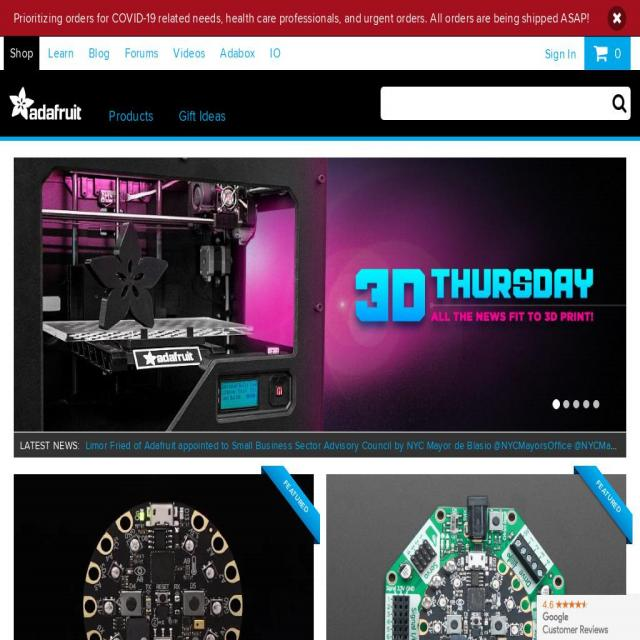login-option: (536, 38, 582, 70)
navigation-blocks: (13, 468, 628, 640)
navigation-links: (6, 34, 288, 128)
search: (370, 82, 636, 133)
